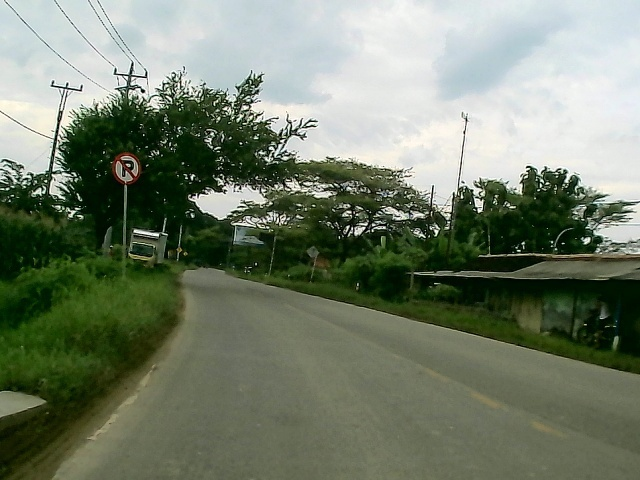Dilarang parkir: (109, 150, 144, 187)
